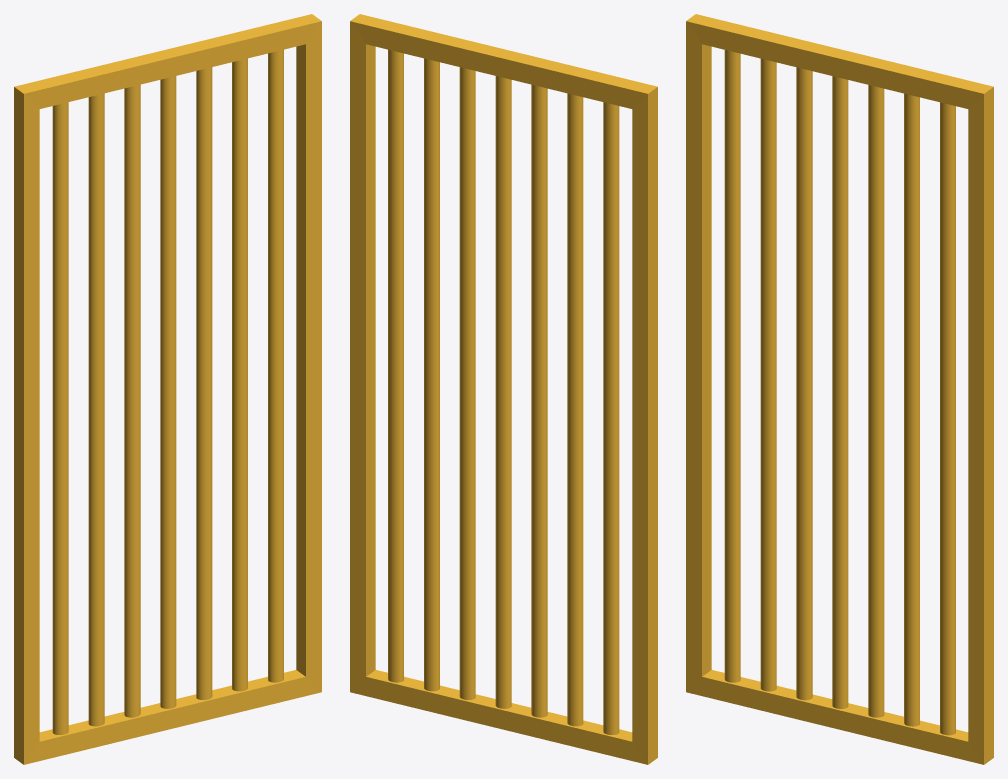
The model's file is Porte.fbx.
3 renders of one model, left to right at view 1: azimuth 30°, elevation 25°; view 2: azimuth 150°, elevation 25°; view 3: azimuth 330°, elevation 25°, orthographic.
Visible parts, largest first — view 1: Cylinder, Cube; view 2: Cylinder, Cube; view 3: Cylinder, Cube.
Part boxes in pixels (bbox=[...]): Cylinder: bbox=[52, 49, 283, 734]; Cube: bbox=[14, 14, 321, 764]; Cylinder: bbox=[388, 49, 619, 734]; Cube: bbox=[350, 14, 657, 764]; Cylinder: bbox=[724, 50, 955, 735]; Cube: bbox=[686, 14, 993, 764].
Size of the model in its own units: 218 by 468 by 12.43.
